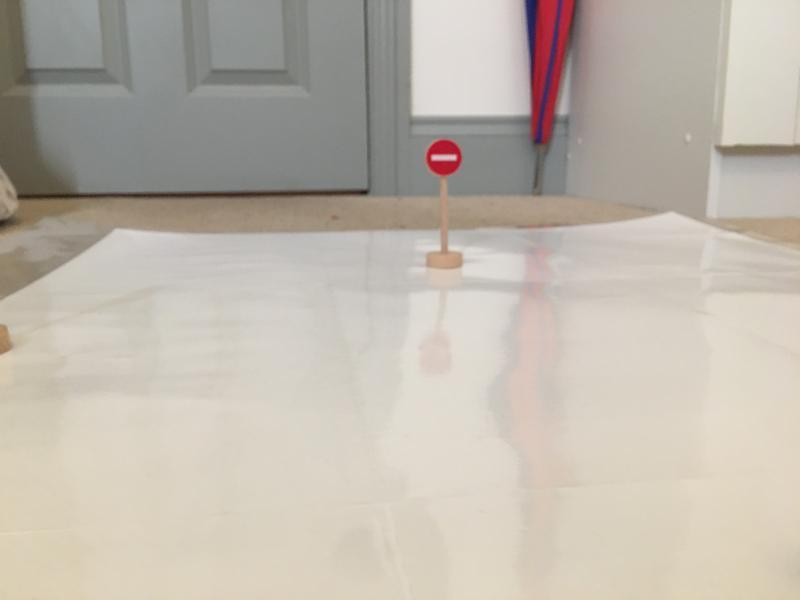Traffic_Sign_No_Entry: (425, 139, 462, 177)
